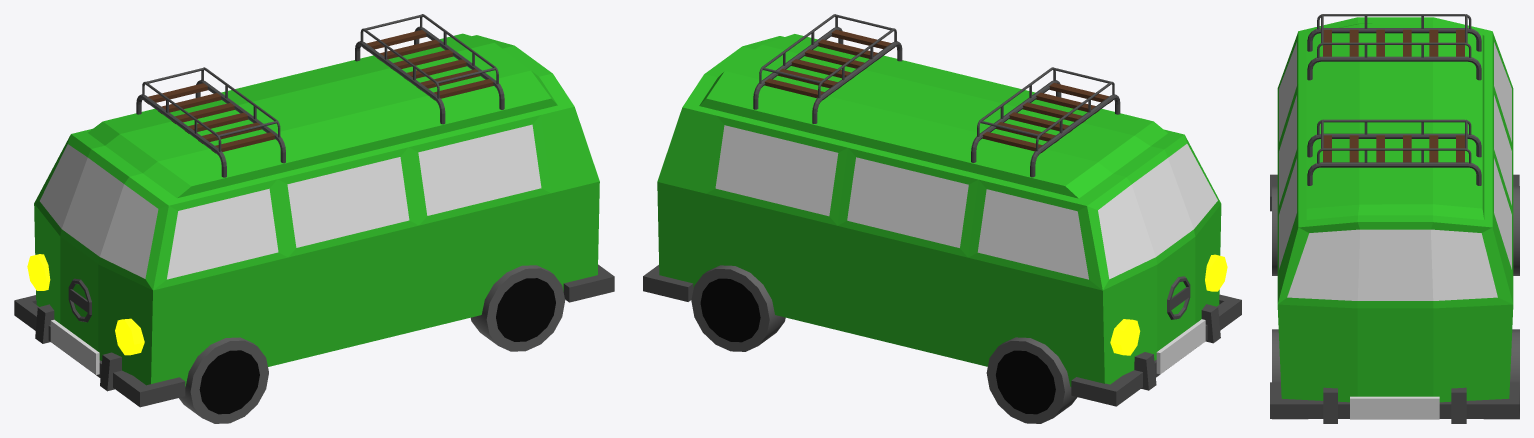
Rendered from Vag.fbx.
3 renders of one model, left to right at view 1: azimuth 30°, elevation 25°; view 2: azimuth 150°, elevation 25°; view 3: azimuth 270°, elevation 25°, orthographic.
Parts seen in each view (by area): view 1: Cube.005, Cube.006, Vag (B-L), Vag (F-L), Cube.008, Cube.009, Cylinder.004, Torus.002, Torus.004, Cylinder, Torus, Torus.003 (+1 smaller); view 2: Cube.005, Vag (B-R), Cube.006, Vag (F-R), Cube.008, Cube.009, Cylinder, Torus.002, Torus.004, Cylinder.004, Torus, Torus.003 (+1 smaller); view 3: Cube.005, Cube.006, Cube.009, Cube.008, Torus.003, Torus.005, Torus.004, Torus.002, Torus.009, Vag (F-R), Torus.007, Torus.010 (+4 smaller).
Part boxes in pixels (box(x1,y1,x2,y2)): Cube.005: box(34, 33, 599, 386); Cube.006: box(14, 264, 614, 407); Vag (B-L): box(470, 265, 565, 351); Vag (F-L): box(179, 337, 268, 423); Cube.008: box(144, 83, 274, 153); Cube.009: box(363, 30, 493, 99); Cylinder.004: box(115, 318, 144, 355); Torus.002: box(136, 94, 226, 177); Torus.004: box(355, 41, 445, 124); Cylinder: box(27, 254, 50, 290); Torus: box(68, 278, 91, 322); Torus.003: box(195, 80, 285, 163); Cube.005: box(657, 34, 1221, 386); Vag (B-R): box(691, 265, 785, 351); Cube.006: box(643, 265, 1241, 406); Vag (F-R): box(986, 337, 1077, 423); Cube.008: box(982, 83, 1112, 152); Cube.009: box(764, 29, 893, 99); Cylinder: box(1110, 319, 1140, 355); Torus.002: box(1030, 94, 1120, 177); Torus.004: box(812, 41, 902, 123); Cylinder.004: box(1205, 254, 1227, 291); Torus: box(1167, 276, 1190, 319); Torus.003: box(971, 80, 1061, 162); Cube.005: box(1277, 17, 1513, 402); Cube.006: box(1270, 174, 1519, 423); Cube.009: box(1323, 135, 1464, 162); Cube.008: box(1323, 29, 1464, 56); Torus.003: box(1307, 56, 1481, 80); Torus.005: box(1307, 162, 1481, 185); Torus.004: box(1307, 133, 1481, 157); Torus.002: box(1307, 28, 1481, 51); Torus.009: box(1317, 119, 1471, 135); Vag (F-R): box(1513, 186, 1519, 275); Torus.007: box(1317, 42, 1471, 58); Torus.010: box(1317, 148, 1471, 163).
Bounding box in the file's own units: 290 × 151 × 129.
